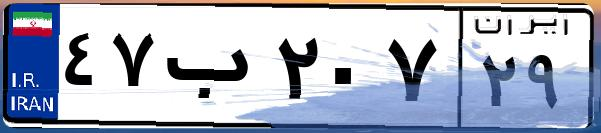0: (330, 28, 385, 110)
2: (270, 28, 330, 110), (475, 38, 525, 113)
4: (57, 26, 110, 100)
7: (385, 28, 445, 110), (110, 28, 158, 98)
9: (525, 38, 570, 115)
ب: (158, 20, 270, 120)
